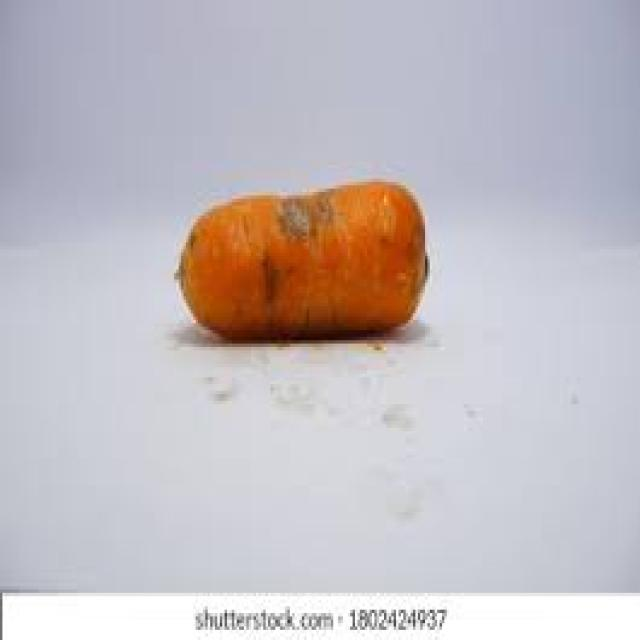Stale_Carrot: (198, 187, 419, 338)
